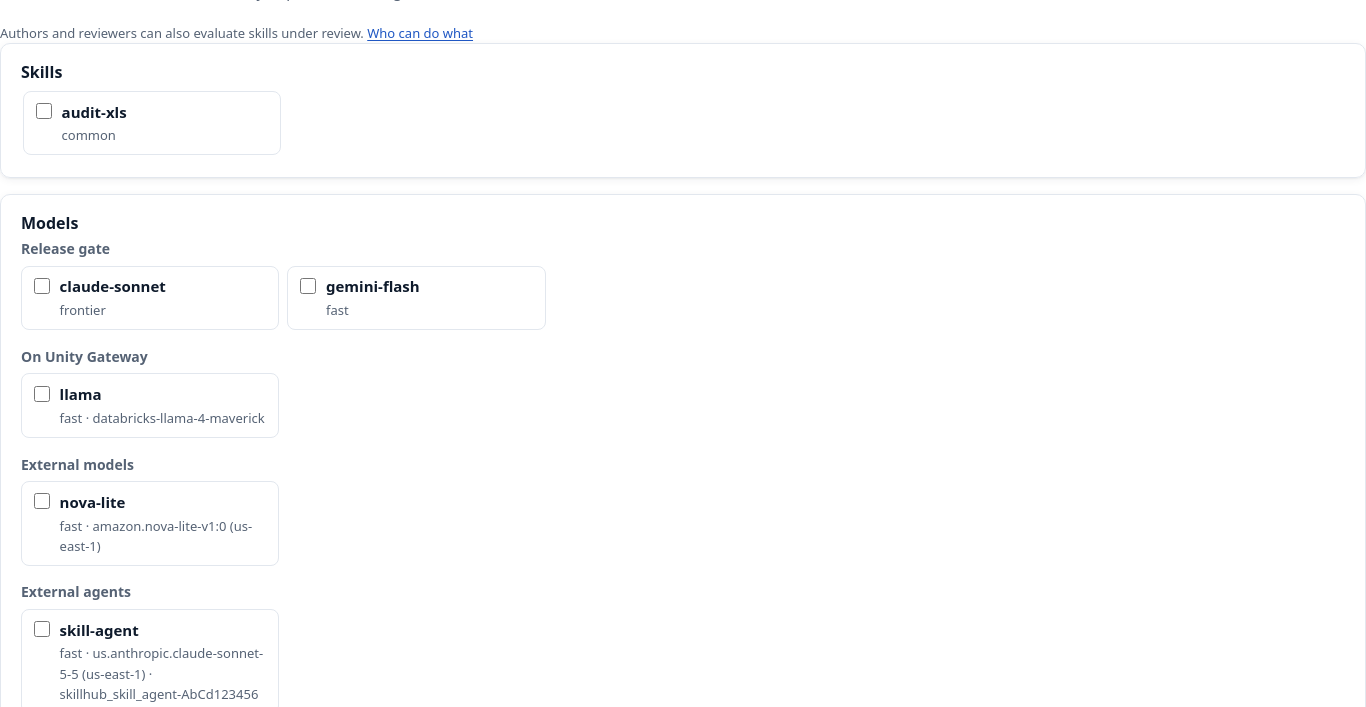
Scenario: RunEval, models from the model catalog › runs an external agent on live skills
Click the checkbox labelled "audit-xls common" at (44, 111), box x1=36 y1=103 x2=52 y2=119
(page scrolled)
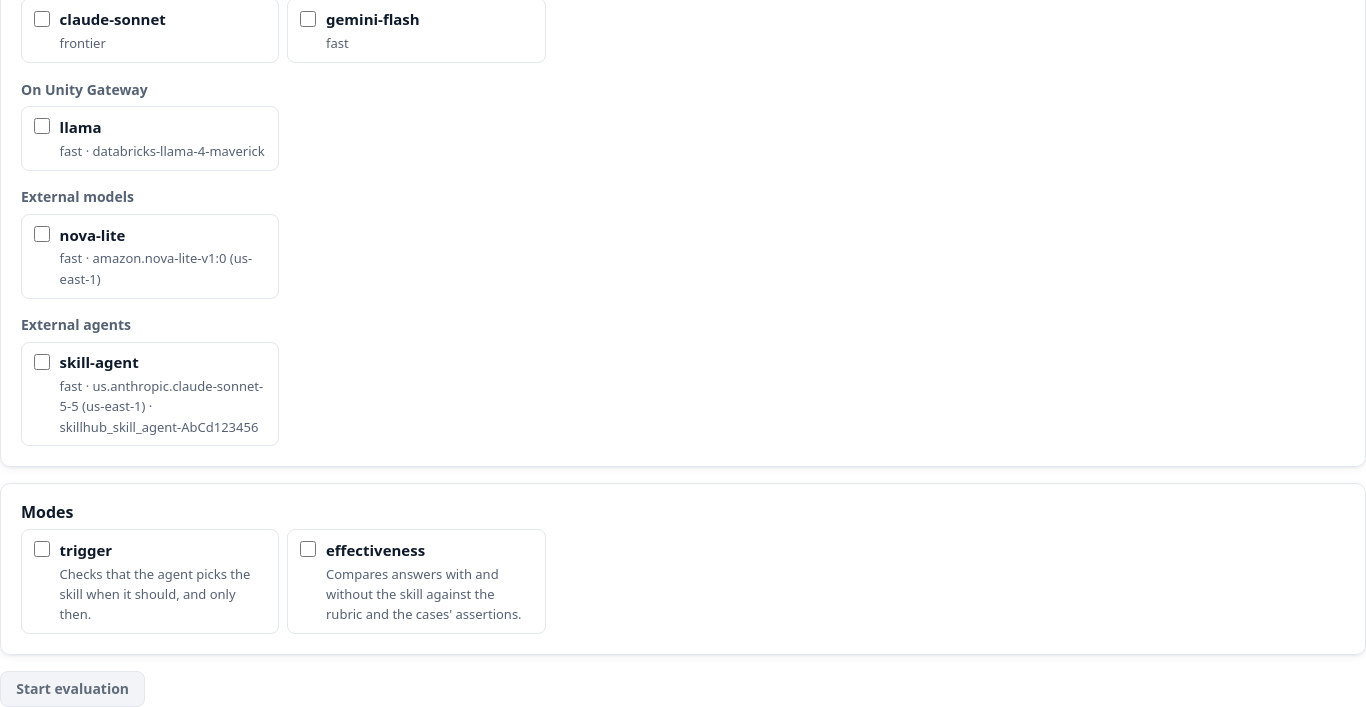
Click the checkbox labelled "skill-agent" at (42, 362), box x1=34 y1=354 x2=50 y2=370
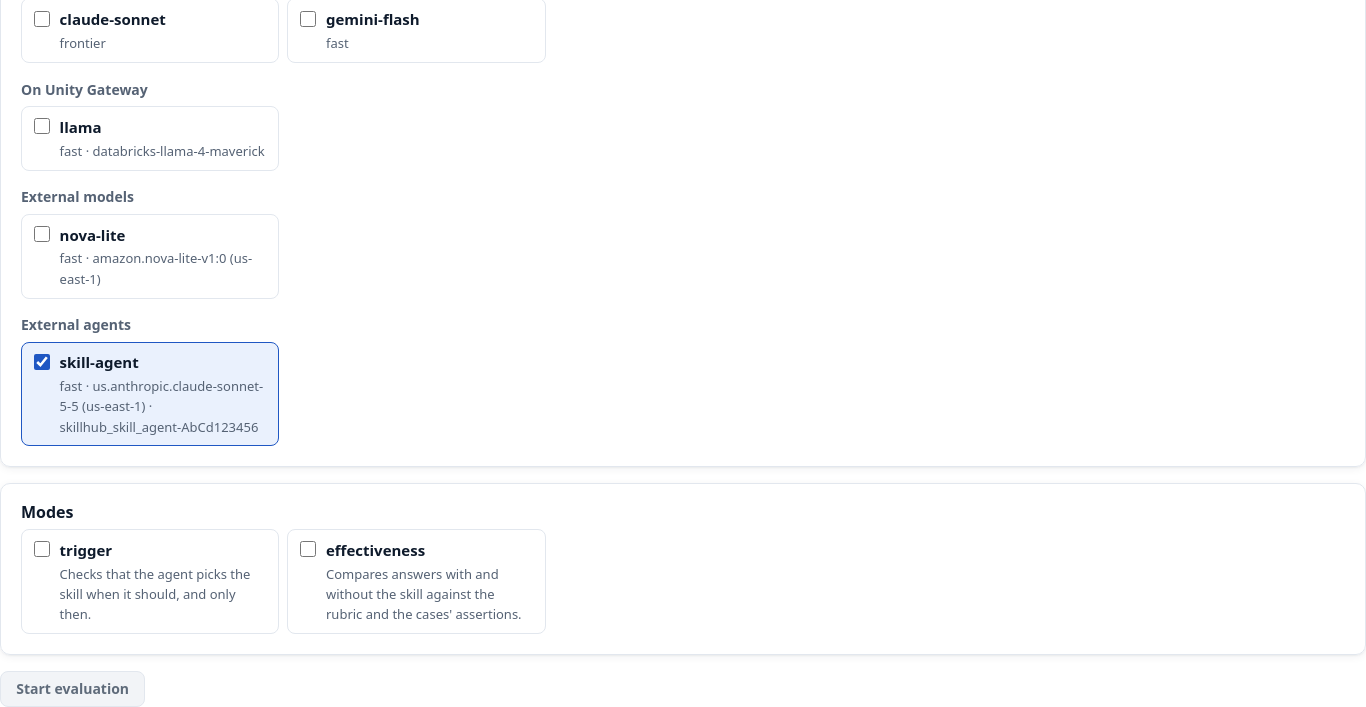
Click the checkbox labelled "trigger" at (42, 550), box x1=34 y1=542 x2=50 y2=558
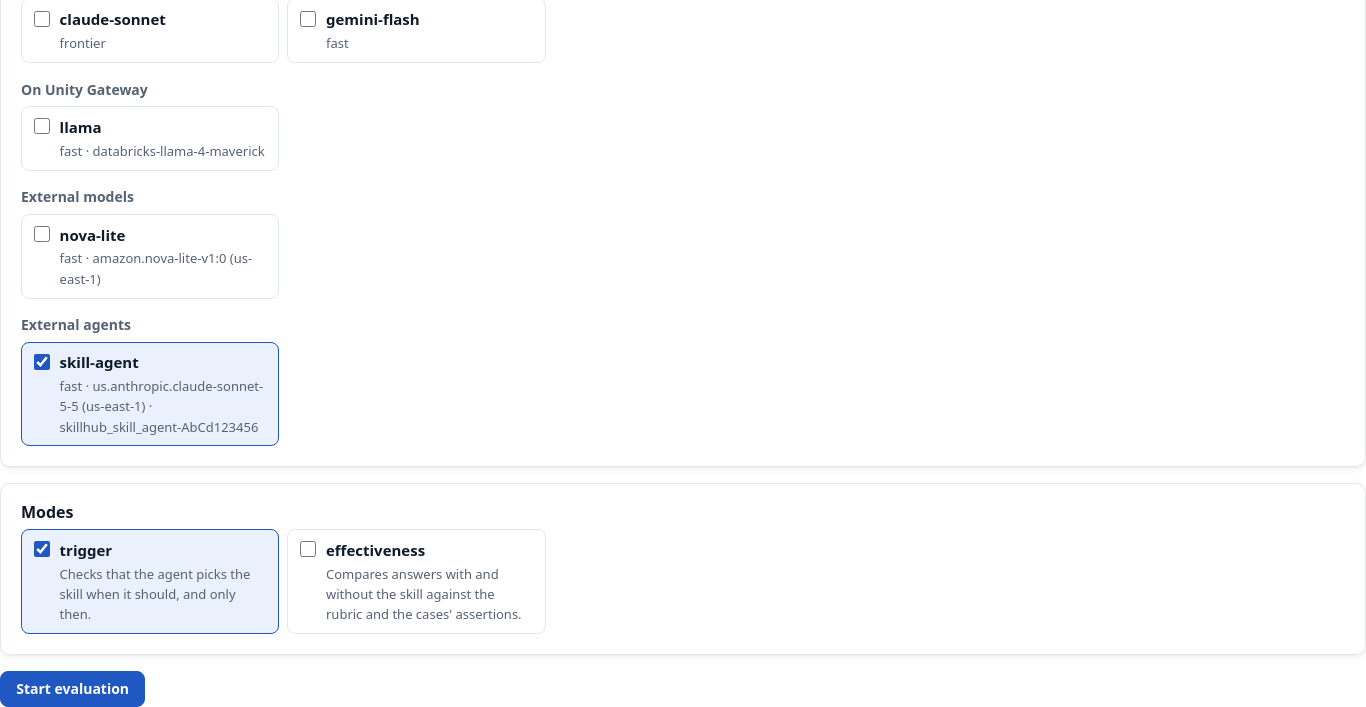
Click the button "Start evaluation" at (73, 689), box x1=0 y1=671 x2=145 y2=706
(page scrolled)
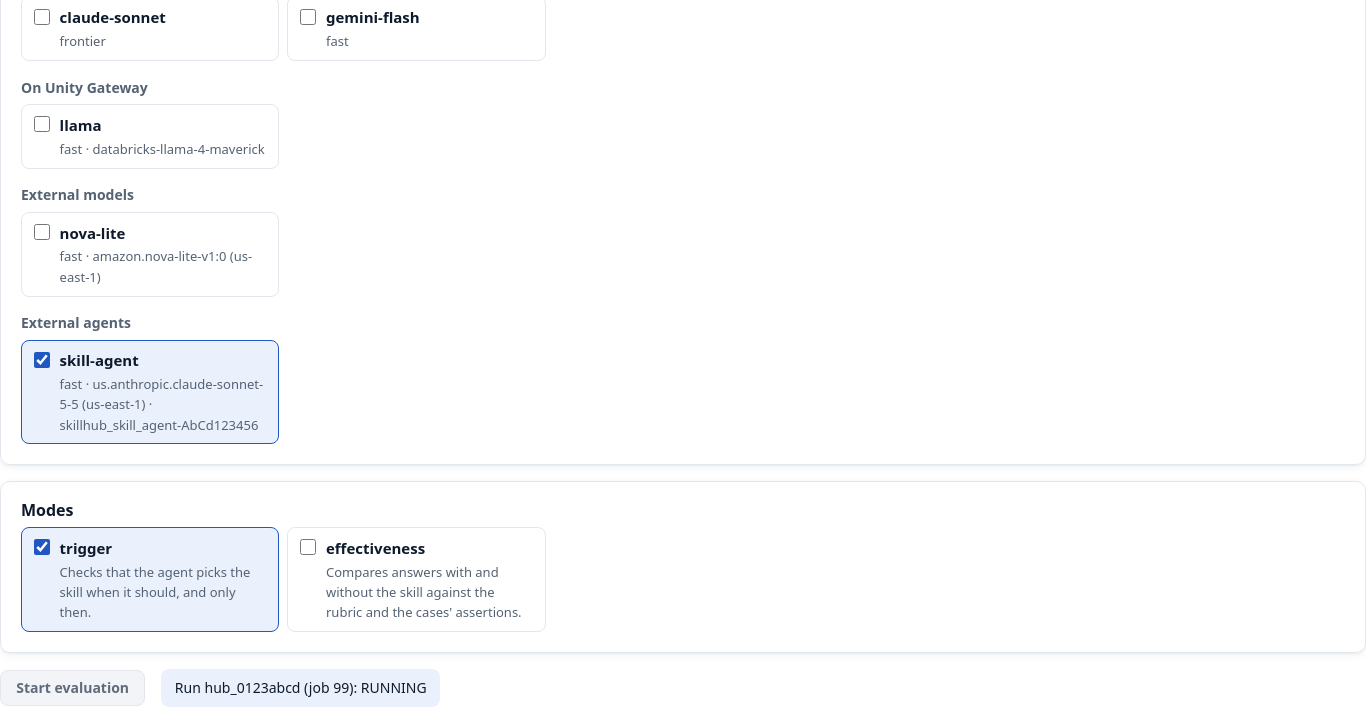
Result: the text "Run hub_0123abcd (job 99): RUNNING" is shown at x1=161 y1=669 x2=440 y2=706
